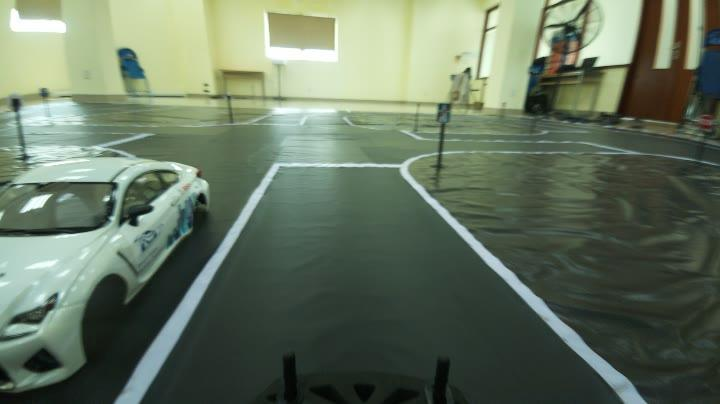car: (5, 85, 222, 390)
highway_exit: (431, 98, 463, 132)
